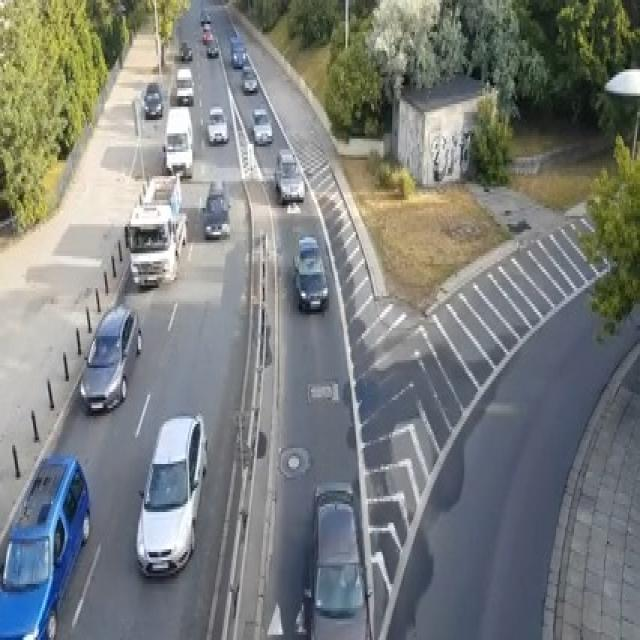car: (0, 453, 90, 638), (294, 480, 372, 637), (136, 411, 208, 578), (78, 304, 141, 413), (293, 235, 327, 312), (273, 146, 305, 202), (200, 179, 230, 237), (206, 104, 228, 144), (141, 80, 164, 117), (251, 107, 272, 144), (176, 67, 194, 104), (230, 34, 246, 66), (240, 64, 257, 93), (179, 40, 192, 59), (206, 37, 219, 56), (201, 24, 212, 43), (198, 8, 210, 24)
truck: (162, 104, 192, 176)
